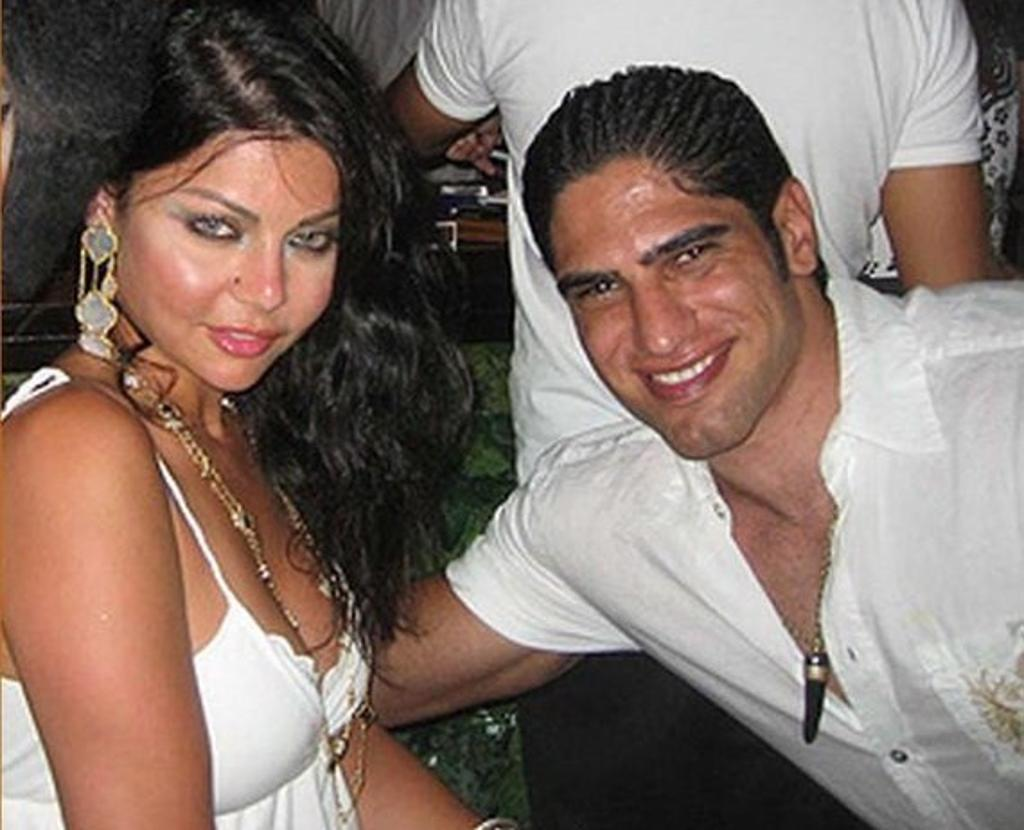face: (546, 170, 802, 458), (120, 128, 340, 390)
